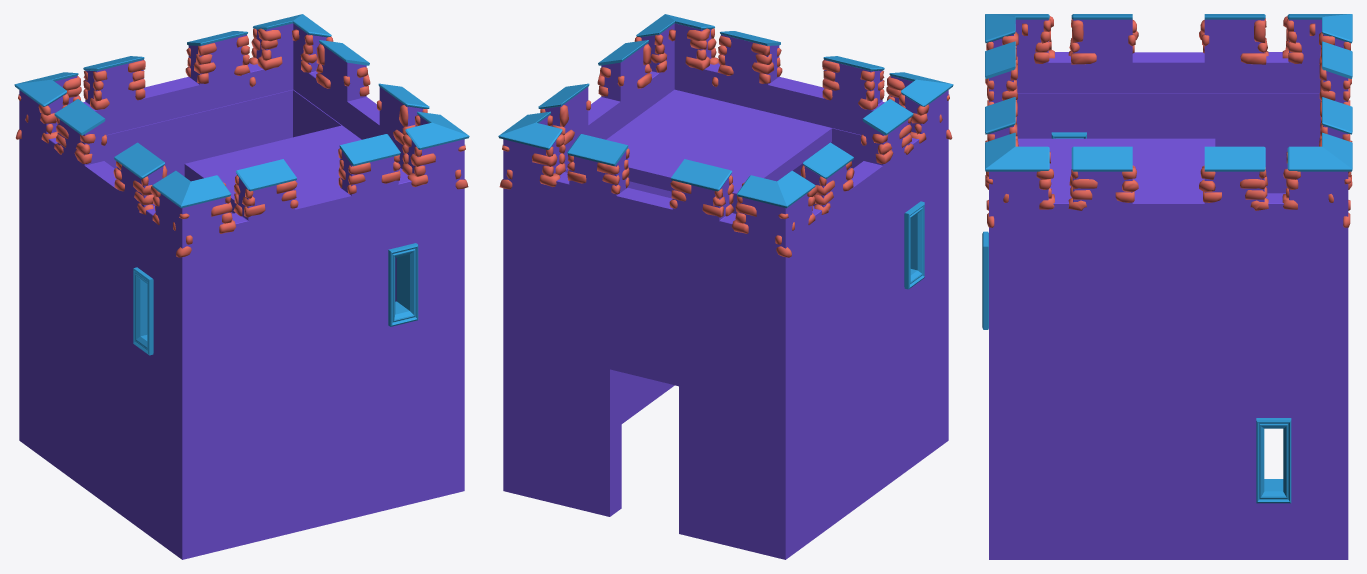
File: Medieval Tower.fbx
3 renders of one model, left to right at view 1: azimuth 30°, elevation 25°; view 2: azimuth 150°, elevation 25°; view 3: azimuth 270°, elevation 25°, orthographic. The views are drawn at different scales.
Parts seen in each view (by area): view 1: MedievalTower; view 2: MedievalTower; view 3: MedievalTower.
Part boxes in pixels (x1=…): MedievalTower: x1=14, y1=14, x2=469, y2=559; MedievalTower: x1=498, y1=14, x2=953, y2=559; MedievalTower: x1=982, y1=14, x2=1352, y2=559.
Size of what is drawn, in the model's own units: 5.18 by 6.18 by 5.15.
